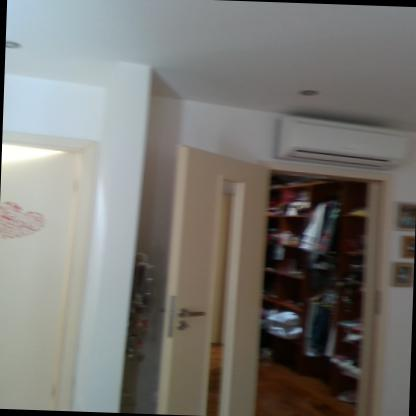closed: (0, 119, 112, 412)
open: (182, 136, 409, 415)
